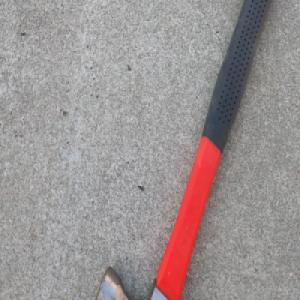Hammer: (95, 0, 271, 300)
